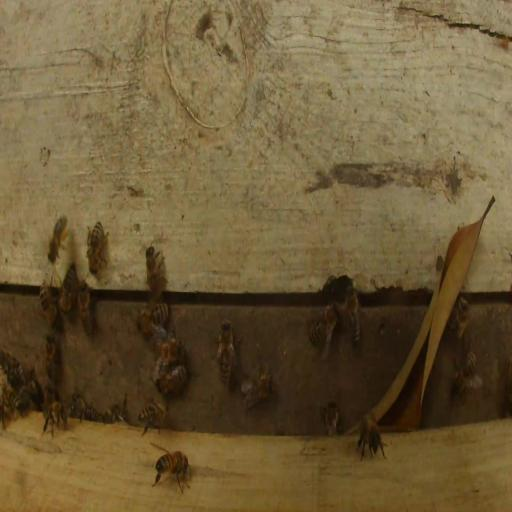nonpollenbee: (308, 303, 339, 360), (154, 449, 191, 494), (355, 413, 386, 461), (214, 319, 236, 386), (240, 370, 273, 411), (452, 350, 481, 396), (42, 385, 66, 436), (137, 302, 169, 339), (342, 282, 361, 344), (86, 220, 107, 275), (137, 402, 169, 435), (145, 243, 165, 295), (0, 369, 24, 412), (447, 294, 469, 339), (155, 365, 187, 395), (72, 394, 103, 423), (77, 281, 93, 337), (153, 334, 184, 362), (59, 265, 76, 315), (1, 348, 23, 384), (41, 283, 57, 326), (320, 400, 339, 436), (107, 395, 129, 424), (45, 334, 58, 381), (29, 380, 41, 408), (69, 302, 70, 309)
pollenbee: (48, 215, 68, 264)
